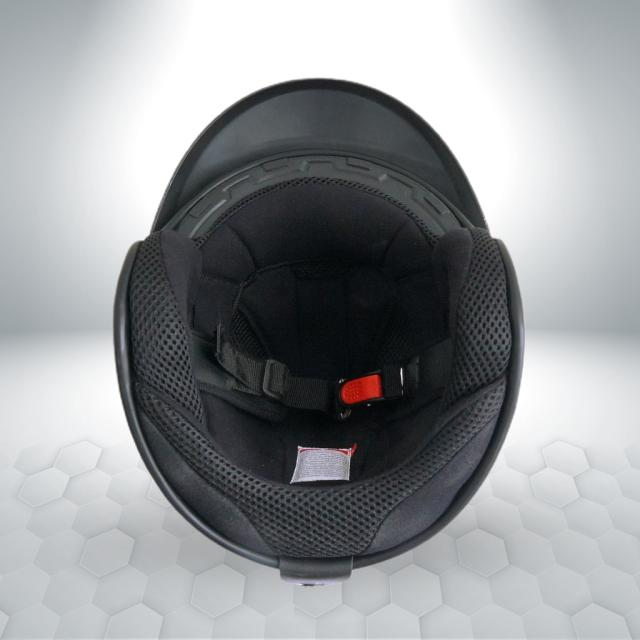Helm: (108, 76, 530, 592)
